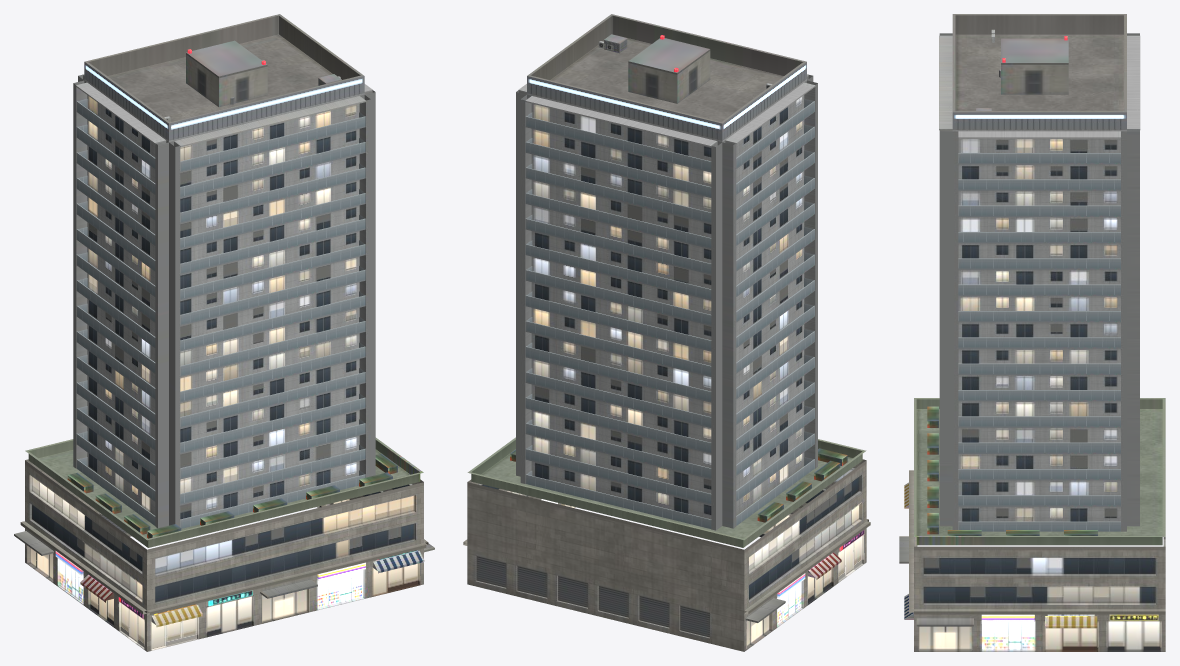
Rendered from tokyo_apartment_e.glb.
The picture shows the model from 3 angles, left to right: view 1: azimuth 30°, elevation 25°; view 2: azimuth 150°, elevation 25°; view 3: azimuth 270°, elevation 25°; orthographic projection. The views are drawn at different scales.
Visible parts, largest first — view 1: tokyo_apartment_e; view 2: tokyo_apartment_e; view 3: tokyo_apartment_e.
Boxes of the visible parts, <box> form: tokyo_apartment_e: <box>14,14,434,651</box>; tokyo_apartment_e: <box>463,14,870,651</box>; tokyo_apartment_e: <box>899,14,1165,651</box>.
Bounding box in the file's own units: 37 × 60.95 × 27.5.
1 material, 1 textured.
